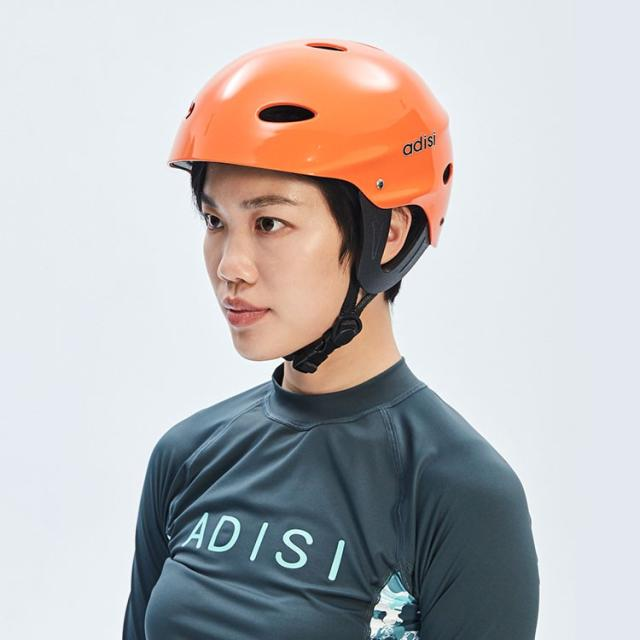illegal_helmet: (158, 21, 459, 384)
